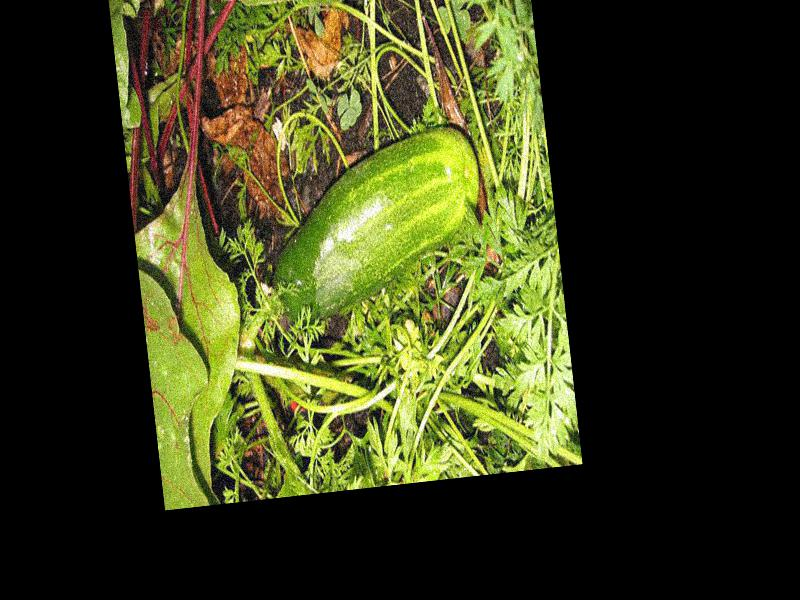Cucumber: (257, 122, 490, 332)
